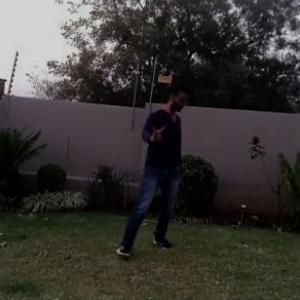takeoff-hand: (142, 118, 173, 146)
